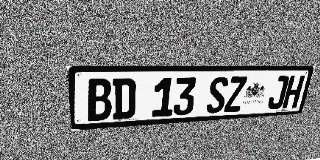1: (152, 77, 176, 117)
3: (173, 77, 197, 116)
B: (86, 78, 112, 121)
D: (112, 78, 136, 120)
H: (282, 75, 305, 109)
J: (266, 76, 290, 110)
S: (205, 77, 229, 114)
Z: (224, 76, 247, 112)
